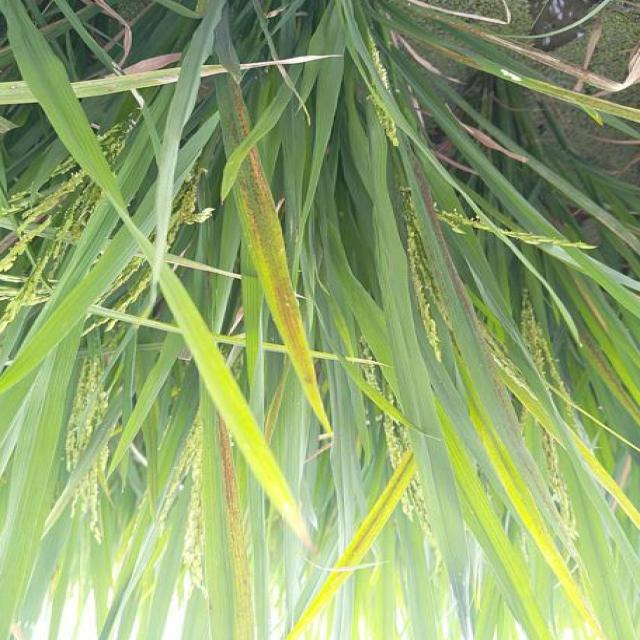Leaf Streak: (232, 144, 331, 434), (407, 138, 477, 335), (213, 410, 257, 640), (342, 450, 417, 566), (474, 315, 519, 442), (580, 330, 640, 420), (213, 71, 250, 158), (94, 66, 181, 87), (240, 54, 344, 69), (201, 64, 229, 78)
